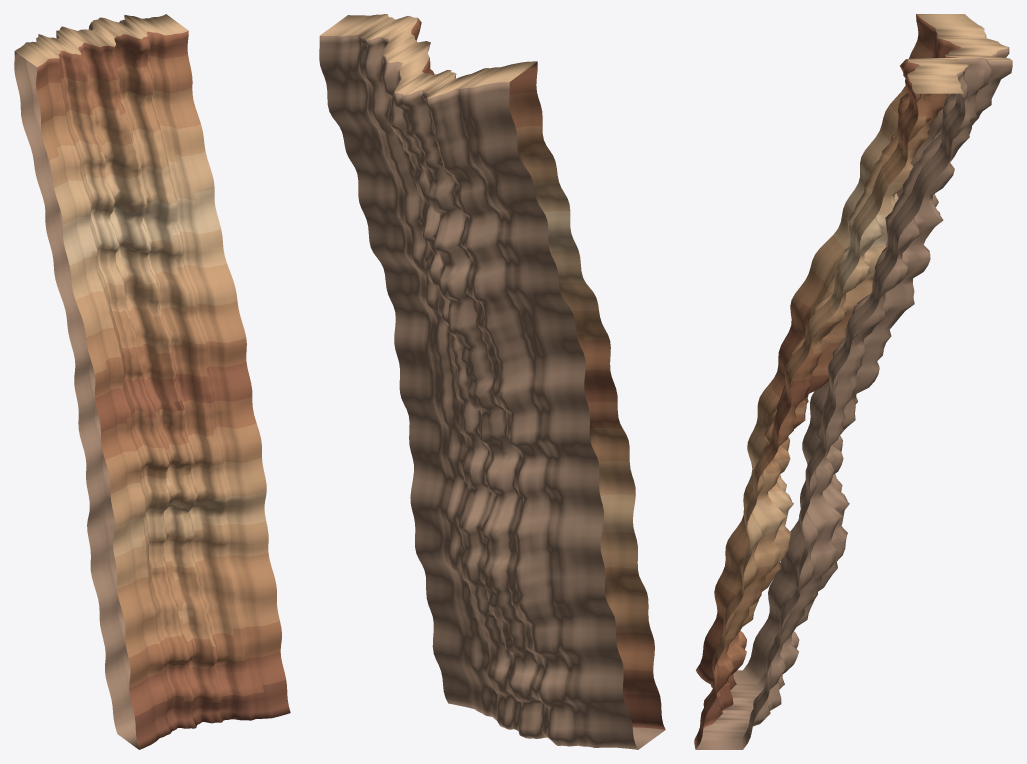
The model's file is SM_CanyonWall_L_Straight_B_Wide.glb.
The picture shows the model from 3 angles, left to right: view 1: azimuth 30°, elevation 25°; view 2: azimuth 150°, elevation 25°; view 3: azimuth 270°, elevation 25°; orthographic projection. The views are drawn at different scales.
Parts seen in each view (by area): view 1: SM_CanyonWall_L_Straight_B_Wide; view 2: SM_CanyonWall_L_Straight_B_Wide; view 3: SM_CanyonWall_L_Straight_B_Wide.
Part boxes in pixels (bbox=[...]): SM_CanyonWall_L_Straight_B_Wide: bbox=[14, 14, 290, 749]; SM_CanyonWall_L_Straight_B_Wide: bbox=[319, 14, 665, 749]; SM_CanyonWall_L_Straight_B_Wide: bbox=[694, 14, 1012, 749].
Bounding box in the file's own units: 24 × 93.17 × 40.49.
